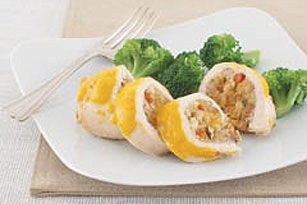background: (35, 11, 147, 52)
